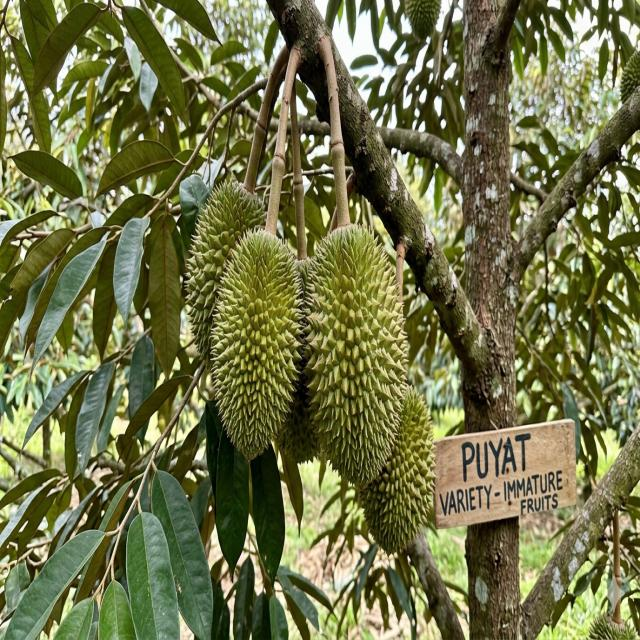immature: (302, 220, 405, 487), (208, 224, 306, 459), (187, 179, 265, 362), (360, 388, 435, 553), (405, 1, 442, 40), (620, 42, 640, 104)
